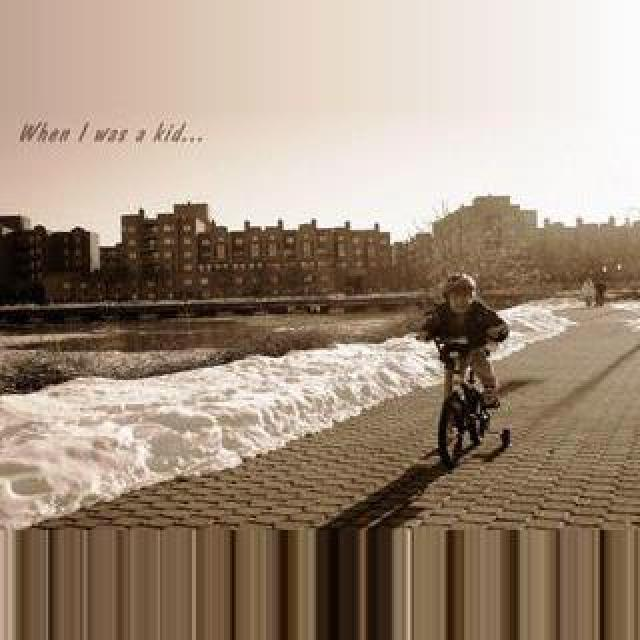MC-Bike: (418, 274, 510, 454)
Person: (430, 332, 504, 472)
